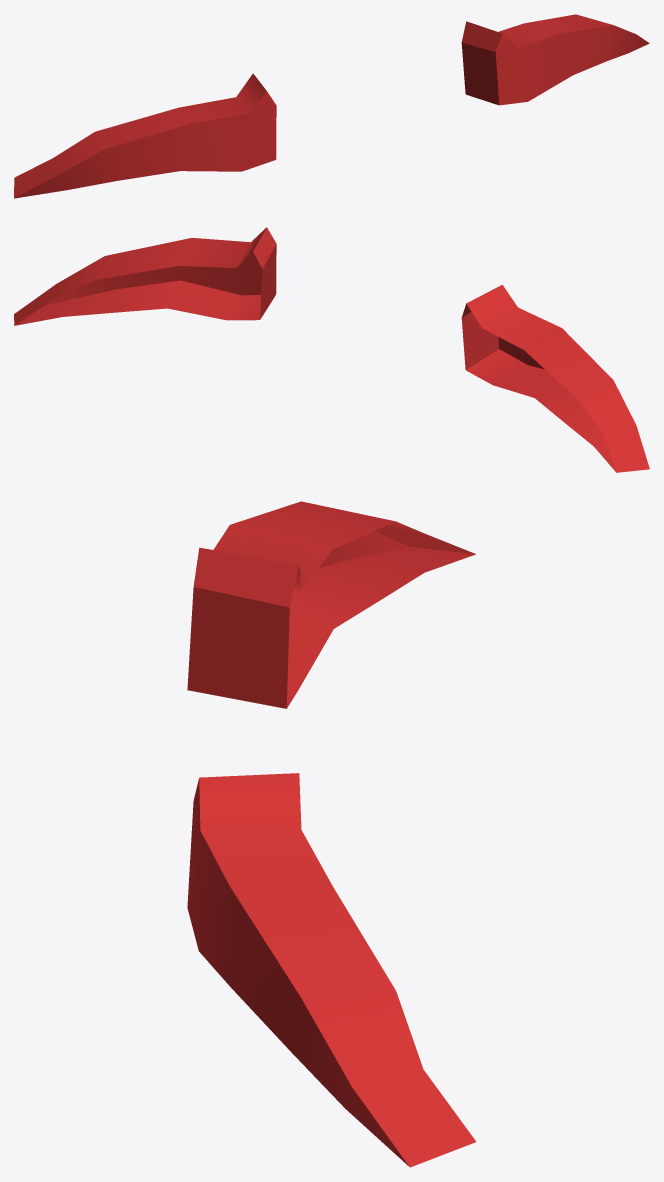
Rendered from Brow_Red_3.fbx.
3 renders of one model, top to bottom at view 1: azimuth 30°, elevation 25°; view 2: azimuth 150°, elevation 25°; view 3: azimuth 270°, elevation 25°, orthographic. The views are drawn at different scales.
Parts seen in each view (by area): view 1: Brow_Red_3; view 2: Brow_Red_3; view 3: Brow_Red_3.
Part boxes in pixels (box(x1,y1,x2,y2)): Brow_Red_3: box(14, 14, 649, 198); Brow_Red_3: box(14, 227, 649, 472); Brow_Red_3: box(187, 501, 476, 1167).
Size of the model in its own units: 32.72 by 4.78 by 6.44.
